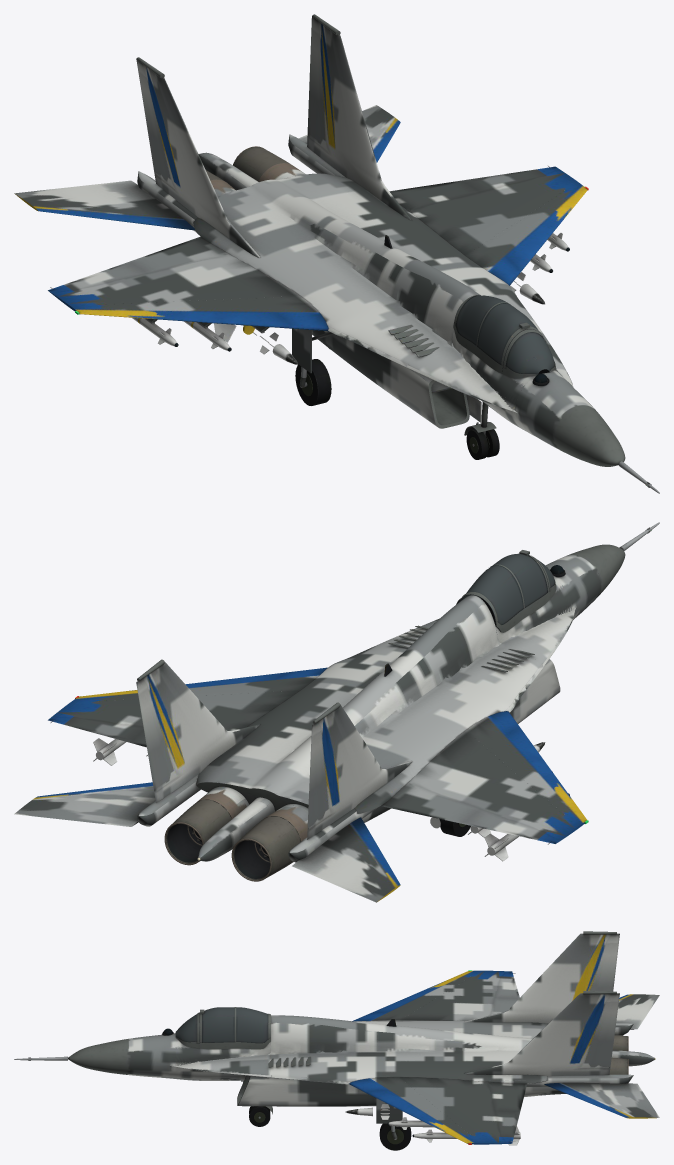
File: veh_mig29.glb
The picture shows the model from 3 angles, top to bottom: view 1: azimuth 30°, elevation 25°; view 2: azimuth 150°, elevation 25°; view 3: azimuth 270°, elevation 25°; orthographic projection. The views are drawn at different scales.
Visible parts, largest first — view 1: veh_mig29; view 2: veh_mig29; view 3: veh_mig29.
Part boxes in pixels (left/top/right/bottom): veh_mig29: left=14, top=14, right=659, bottom=493; veh_mig29: left=14, top=522, right=659, bottom=902; veh_mig29: left=14, top=931, right=659, bottom=1150.
Bounding box in the file's own units: 10.96 × 4.8 × 17.27.
1 material, 1 textured.
